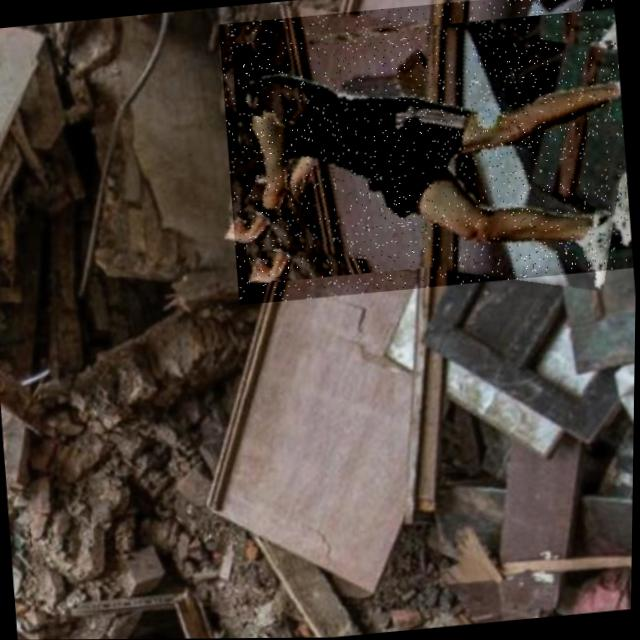Person in Rubble: (215, 0, 637, 304)
